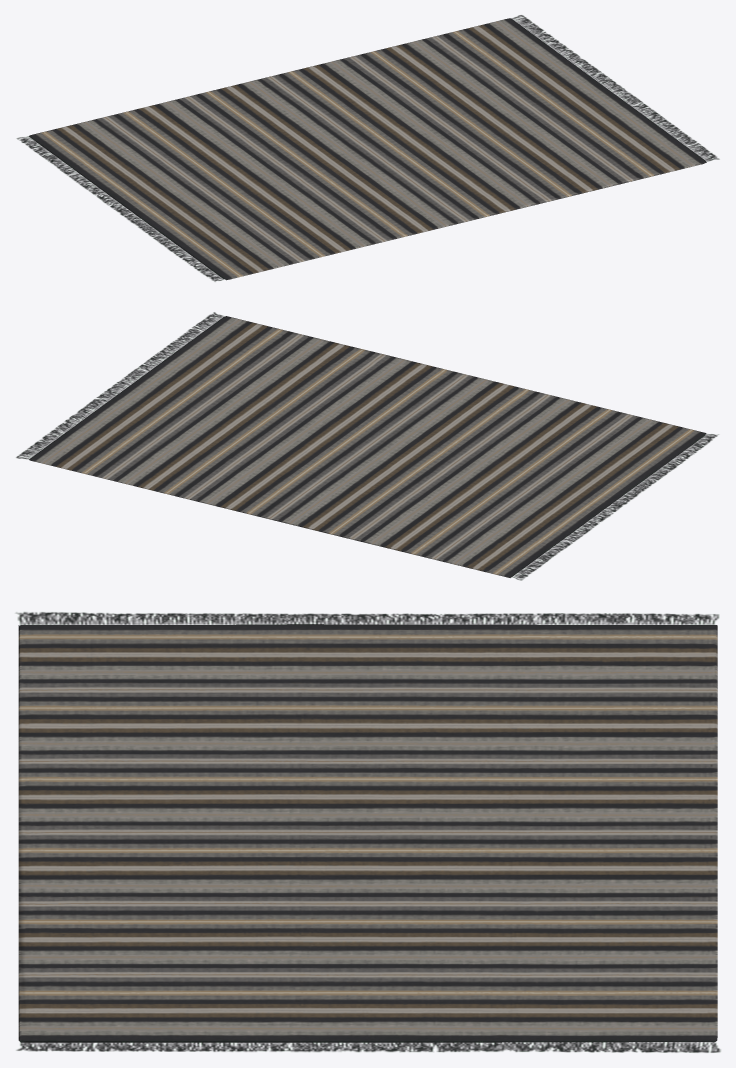
File: 11 - RÅVAROR Rug, flatwoven - handwoven blackbrown grey 170x240 cm.glb
3 views of the same model, one above another, from view 1: azimuth 30°, elevation 25°; view 2: azimuth 150°, elevation 25°; view 3: azimuth 270°, elevation 25° (orthographic). The views are drawn at different scales.
Visible parts, largest first — view 1: 20610905-RÃƒâ€¦VAROR001; view 2: 20610905-RÃƒâ€¦VAROR001; view 3: 20610905-RÃƒâ€¦VAROR001.
Part boxes in pixels (bbox=[...]): 20610905-RÃƒâ€¦VAROR001: bbox=[16, 15, 719, 281]; 20610905-RÃƒâ€¦VAROR001: bbox=[16, 312, 718, 580]; 20610905-RÃƒâ€¦VAROR001: bbox=[16, 612, 720, 1052].
Bounding box in the file's own units: 2.54 × 0.00969 × 1.72.
Materials: 1 (1 with a texture image).
